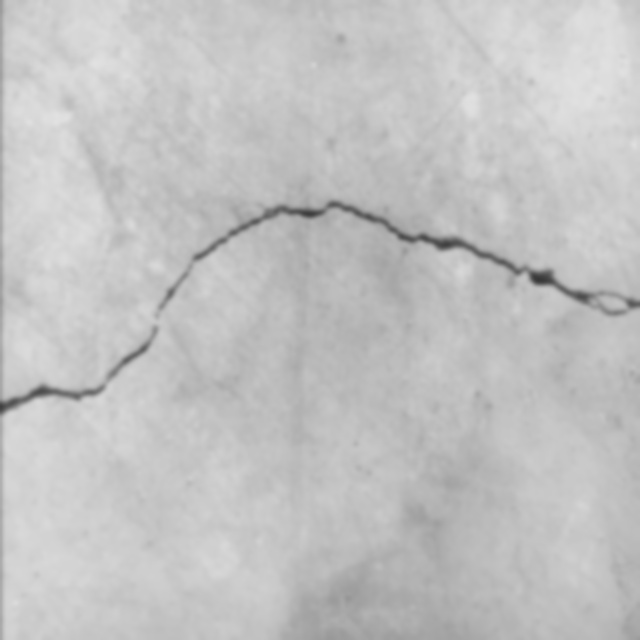SurfaceCrack: (1, 182, 640, 448)
